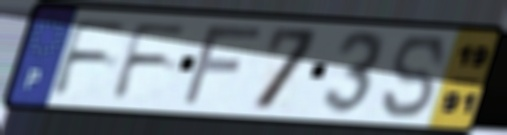3: (319, 27, 386, 119)
7: (252, 24, 324, 114)
F: (178, 24, 269, 108), (108, 20, 194, 102), (48, 17, 134, 98)
S: (379, 32, 449, 121)
